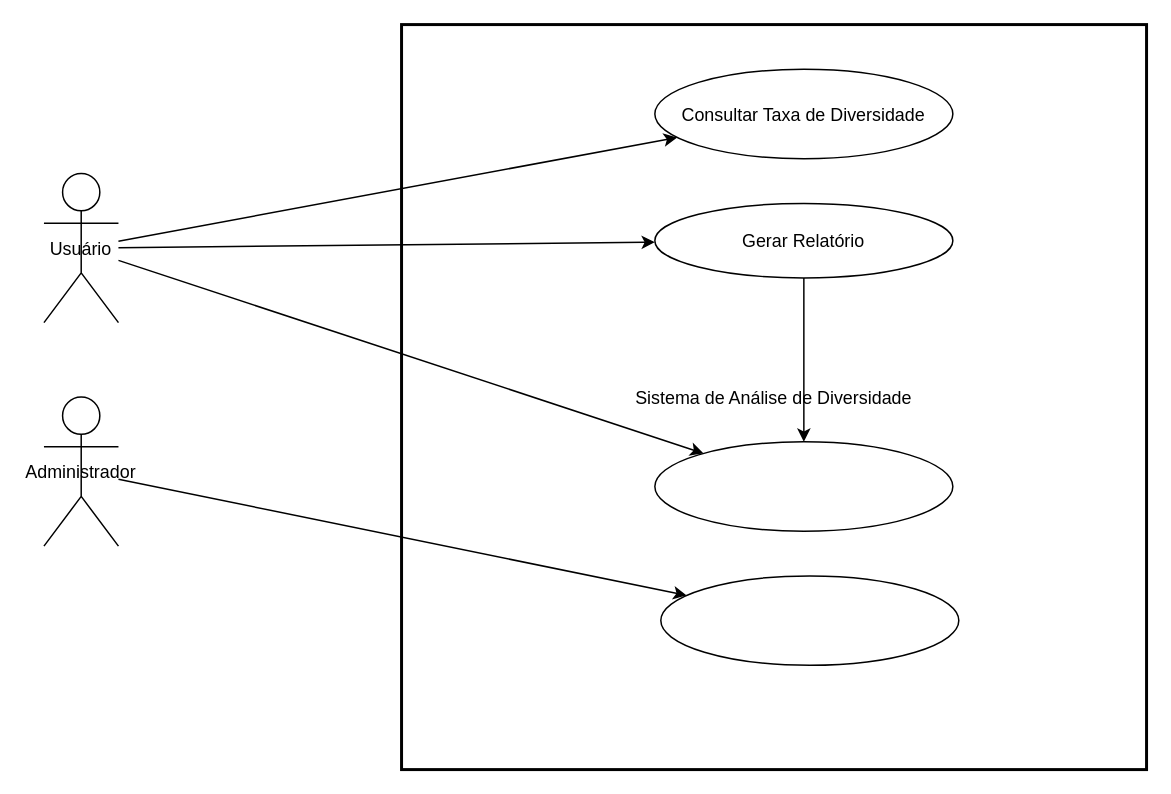
The diagram is 1171 pixels wide and 794 high, and some of its shapes have lost their labels. Here are the shapes that lost their labels. From the top down, the box of each, then its label:
(653, 440, 953, 531): Filtrar por Setor
(659, 574, 959, 665): Gerenciar Empresas
